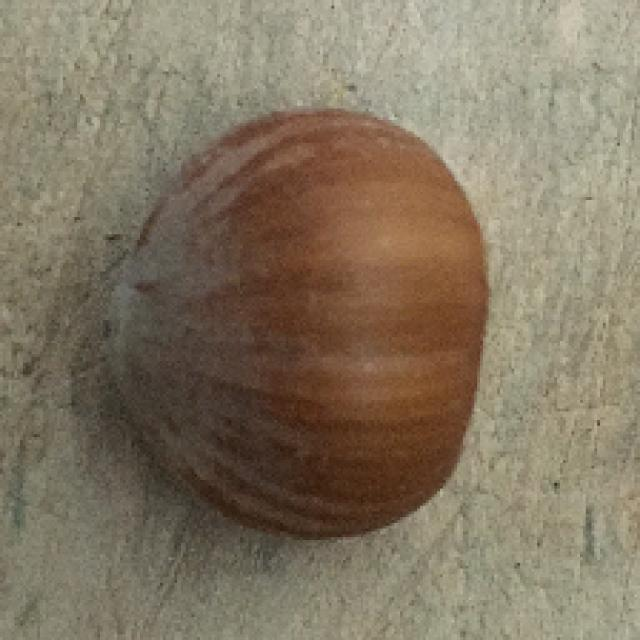qualityHazelnut: (101, 95, 493, 547)
